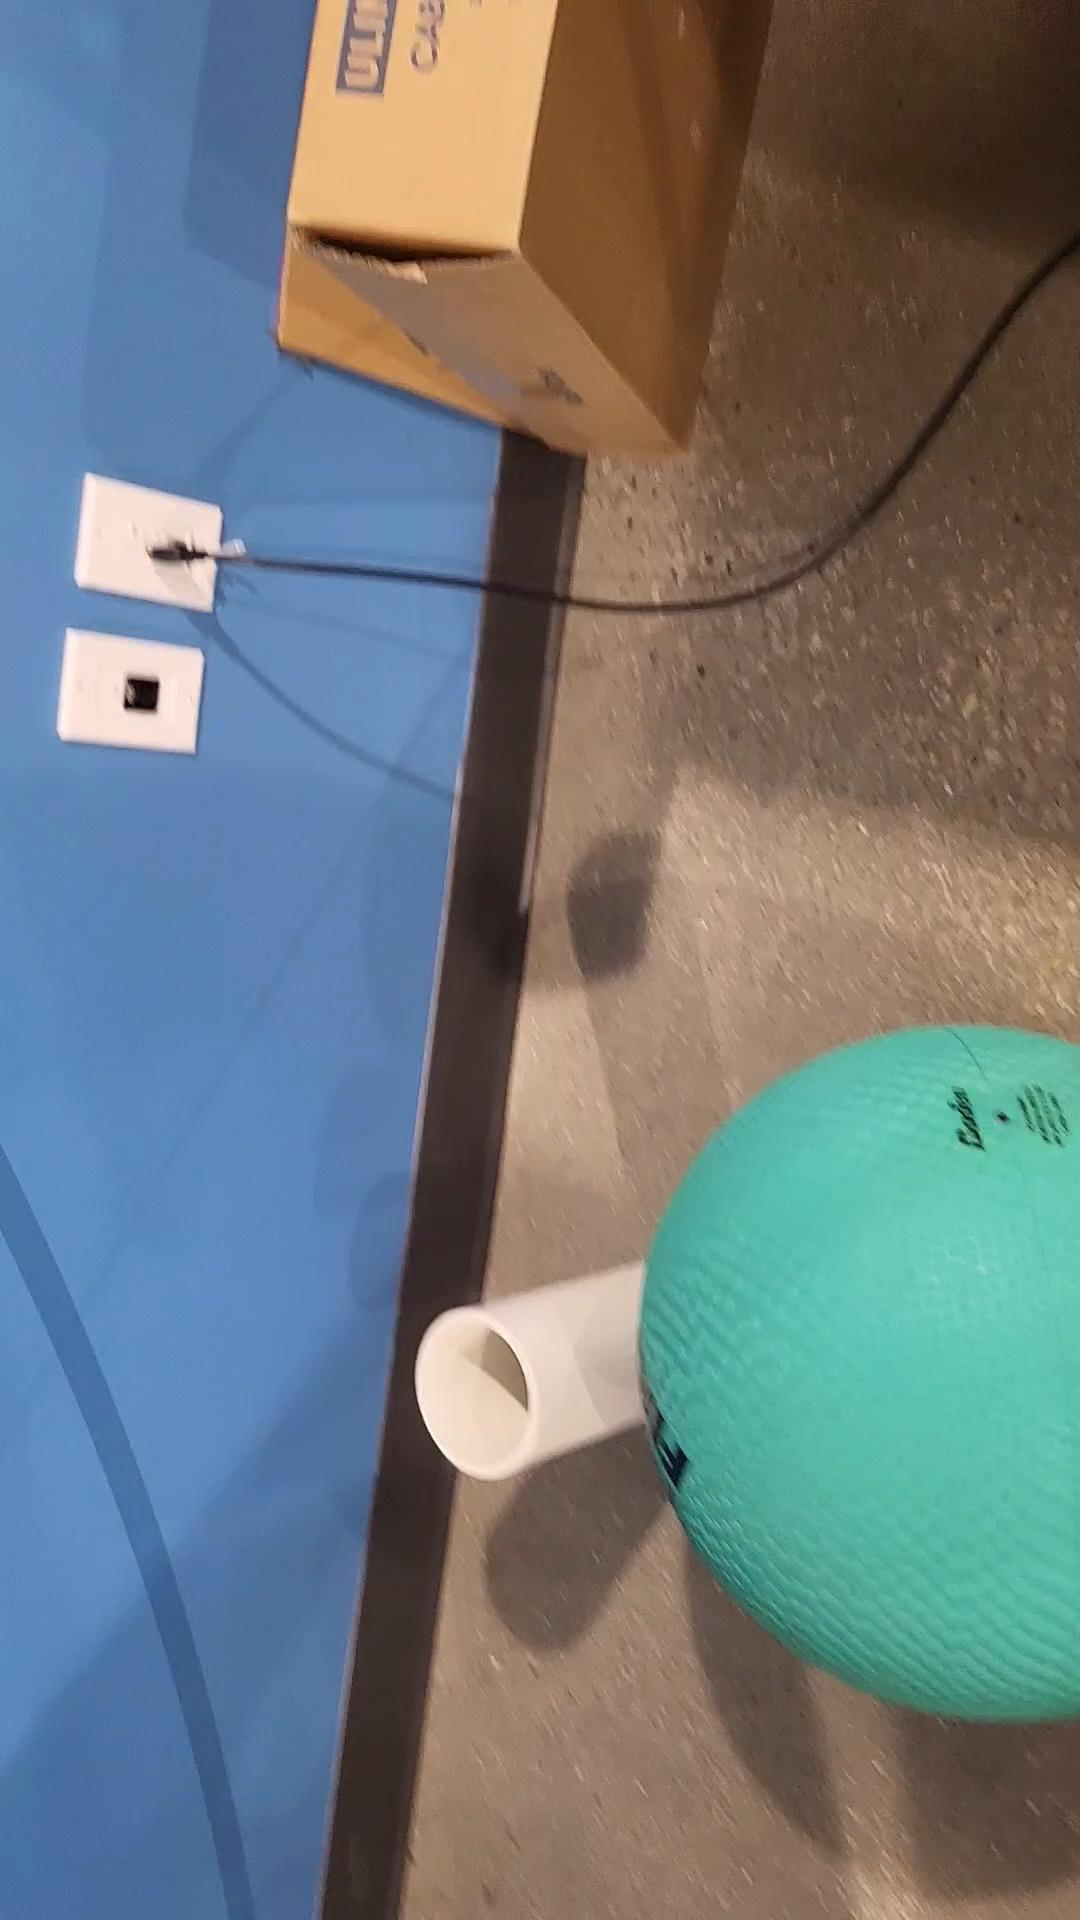algae: (640, 1014, 1080, 1717)
coral: (413, 1245, 680, 1486)
